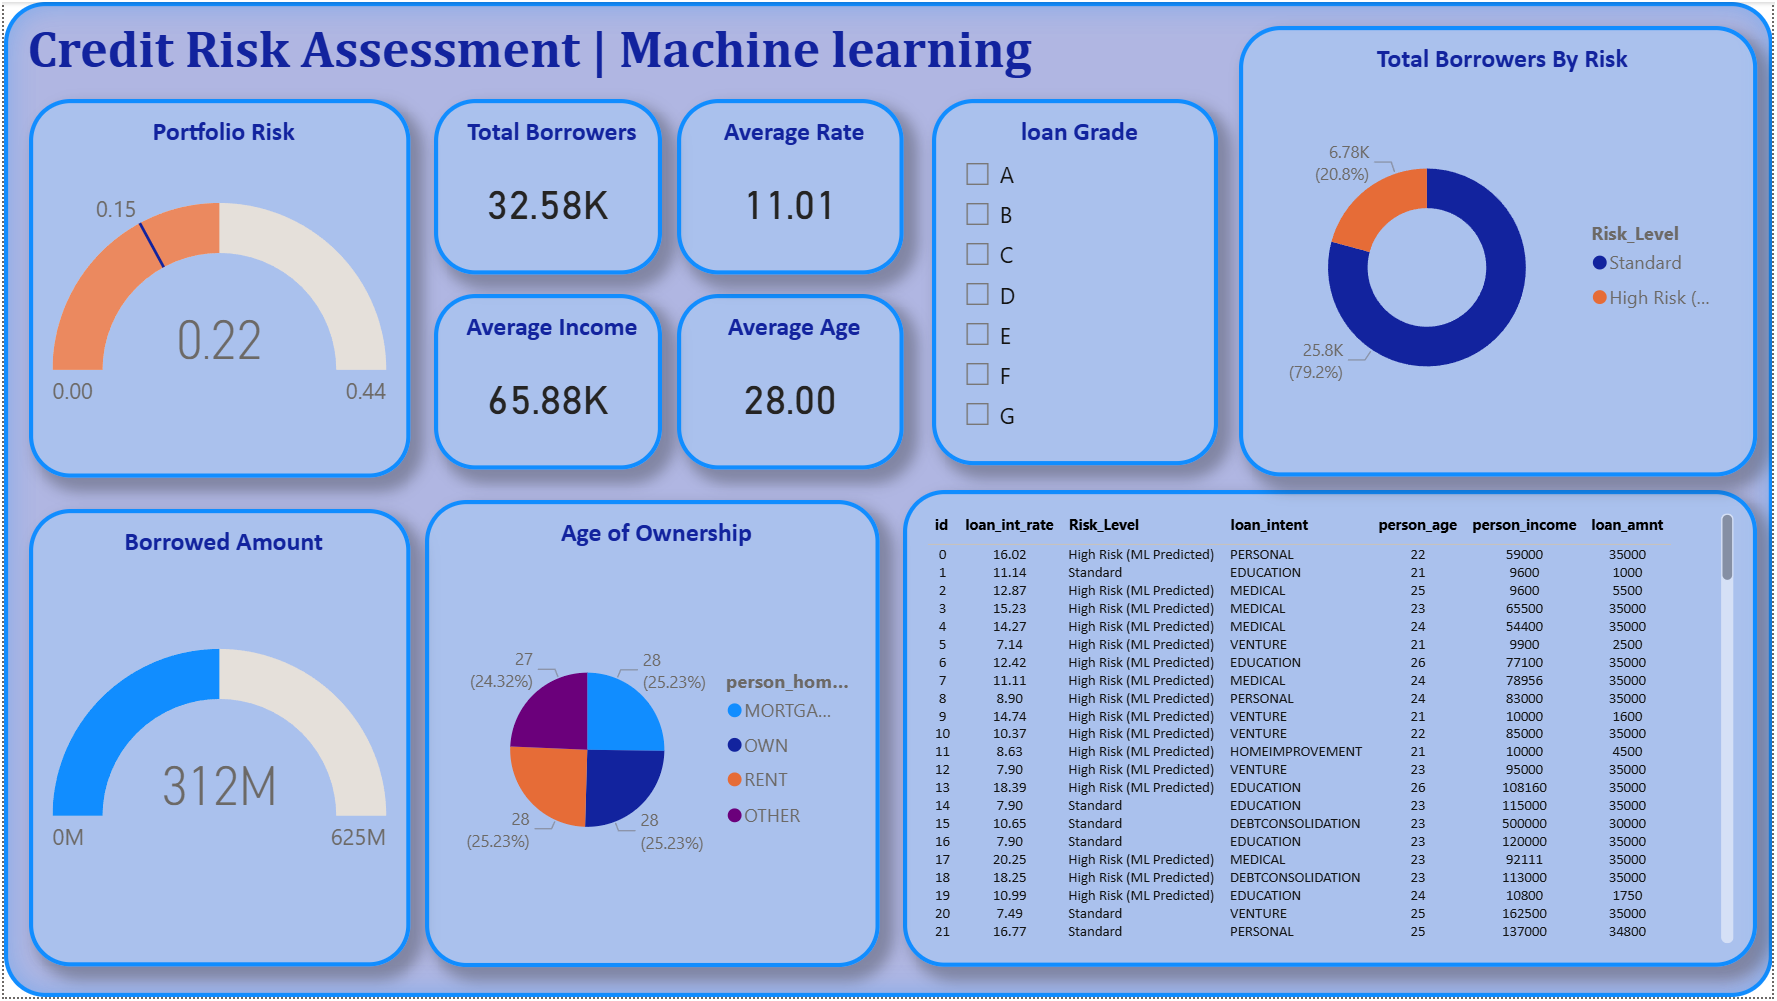

Layout of this report page (visuals, bound fields, positions):
{"tool":"powerbi","page":{"name":"Details","canvas":[1280,720],"ordinal":1},"visuals":[{"type":"textbox","title":"Credit Risk Assessment | Machine learning","box":[0,0,1280.1,720],"z":0},{"type":"gauge","title":"Portfolio Risk","fields":{"Y":["Avg(Fact_Credit_Risk.Default_Probability)"],"TargetValue":["Fact_Credit_Risk.Risk Target"]},"box":[18,70.1,275.5,273.7],"z":1000},{"type":"tableEx","title":"Portfolio Risk","fields":{"Values":["Fact_Credit_Risk.id","Fact_Credit_Risk.loan_int_rate","Fact_Credit_Risk.Risk_Level","Fact_Credit_Risk.loan_intent","Fact_Credit_Risk.person_age","Fact_Credit_Risk.person_income","Fact_Credit_Risk.loan_amnt"]},"box":[650.5,353.4,618.2,345],"z":2000},{"type":"slicer","title":"loan Grade","fields":{"Values":["Fact_Credit_Risk.loan_grade"]},"box":[671.5,70.1,207.3,265.4],"z":3000},{"type":"gauge","title":"Borrowed Amount","fields":{"Y":["Sum(Fact_Credit_Risk.loan_amnt)"]},"box":[18,367.2,275.5,331.2],"z":4000},{"type":"donutChart","title":"Total Borrowers By Risk","fields":{"Category":["Fact_Credit_Risk.Risk_Level"],"Y":["CountNonNull(Fact_Credit_Risk.id)"]},"box":[893.7,17.4,375,326.5],"z":5000},{"type":"pieChart","title":"Age of Ownership","fields":{"Category":["Fact_Credit_Risk.person_home_ownership"],"Y":["Fact_Credit_Risk.Average Age"]},"box":[304.9,360,328.9,338.4],"z":6000},{"type":"card","title":"Total Borrowers","fields":{"Values":["CountNonNull(Fact_Credit_Risk.id)"]},"box":[311.5,70.1,164.7,127],"z":7000},{"type":"card","title":"Average Income","fields":{"Values":["Avg(Fact_Credit_Risk.person_income)"]},"box":[311.5,211.4,164.7,127],"z":8000},{"type":"card","title":"Average Age","fields":{"Values":["Fact_Credit_Risk.Average Age"]},"box":[487,211.4,163.5,127],"z":9000},{"type":"card","title":"Average Rate","fields":{"Values":["Avg(Fact_Credit_Risk.loan_int_rate)"]},"box":[487,70.1,163.5,127],"z":10000}]}

Visuals, with their boxes in screenshot pixels (x1, y1, x2, y2), scaled from the page's 1280x720 canvas onto the 1777x1001 screenshot:
"Credit Risk Assessment | Machine learning" textbox: 0, 0, 1776, 1000
"Portfolio Risk" gauge: 25, 97, 407, 478
"Portfolio Risk" tableEx: 903, 491, 1761, 971
"loan Grade" slicer: 932, 97, 1220, 466
"Borrowed Amount" gauge: 25, 511, 407, 971
"Total Borrowers By Risk" donutChart: 1241, 24, 1761, 478
"Age of Ownership" pieChart: 423, 500, 880, 971
"Total Borrowers" card: 432, 97, 661, 274
"Average Income" card: 432, 294, 661, 470
"Average Age" card: 676, 294, 903, 470
"Average Rate" card: 676, 97, 903, 274
